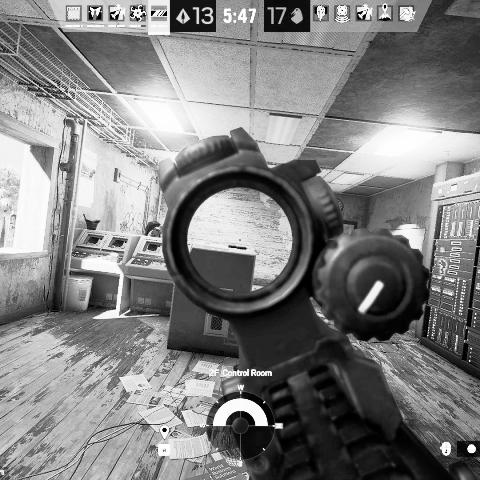Character: (144, 220, 164, 238)
